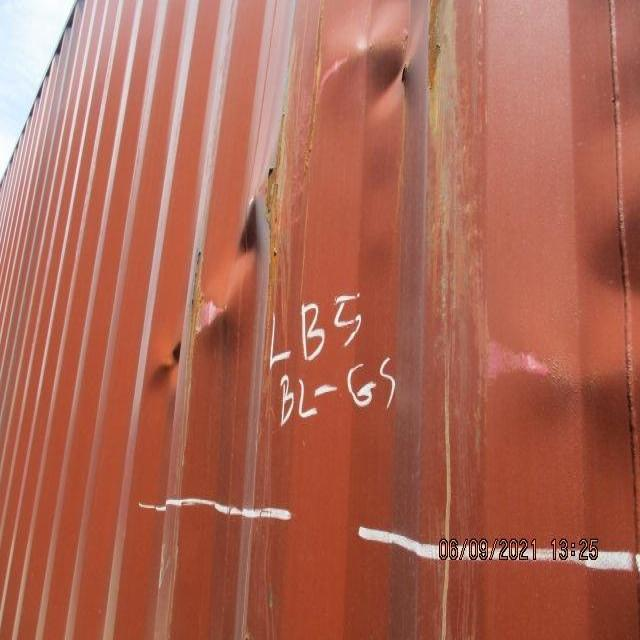dent: (127, 25, 584, 501)
